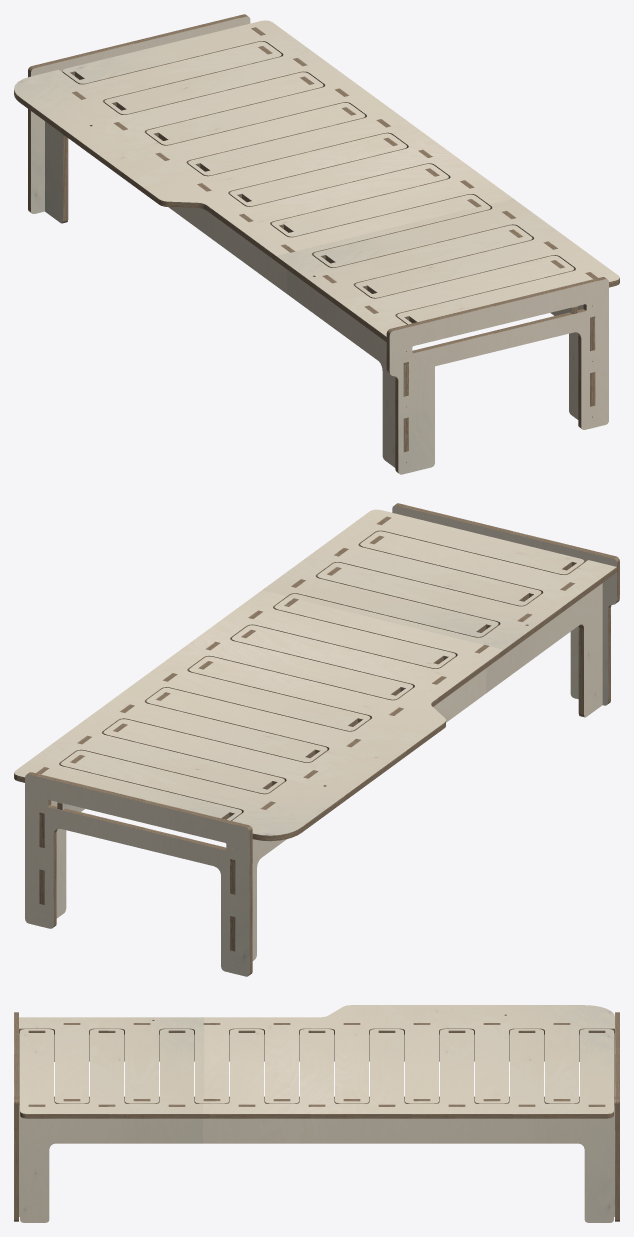
The model's file is slide-bed-birch.glb.
The picture shows the model from 3 angles, top to bottom: view 1: azimuth 30°, elevation 25°; view 2: azimuth 150°, elevation 25°; view 3: azimuth 270°, elevation 25°; orthographic projection. The views are drawn at different scales.
Visible parts, largest first — view 1: ボディ67_1, ボディ6 (1)_1, ボディ2_1, ボディ60_1, ボディ67_0, ボディ1_1, ボディ6 (1)_0, ボディ2_0, ボディ60_0, ボディ1_0, ボディ54_0, ボディ54_1; view 2: ボディ67_1, ボディ6 (1)_1, ボディ1_1, ボディ60_1, ボディ67_0, ボディ2_1, ボディ6 (1)_0, ボディ1_0, ボディ60_0, ボディ2_0, ボディ54_1, ボディ54_0; view 3: ボディ67_1, ボディ6 (1)_1, ボディ5 (1)_1, ボディ6 (1)_0, ボディ1_0, ボディ2_0, ボディ67_0, ボディ60_1, ボディ5 (1)_0, ボディ54_0.
Part boxes in pixels (x1,y1,x2,y2): ボディ67_1: (14, 41, 574, 336); ボディ6 (1)_1: (63, 20, 619, 324); ボディ2_1: (389, 279, 608, 474); ボディ60_1: (45, 121, 395, 467); ボディ67_0: (14, 55, 574, 341); ボディ1_1: (31, 16, 250, 213); ボディ6 (1)_0: (62, 41, 619, 324); ボディ2_0: (386, 277, 606, 473); ボディ60_0: (62, 91, 408, 452); ボディ1_0: (28, 14, 247, 212); ボディ54_0: (258, 46, 595, 406); ボディ54_1: (569, 304, 583, 419); ボディ67_1: (61, 531, 616, 835); ボディ6 (1)_1: (14, 509, 583, 820); ボディ1_1: (25, 774, 249, 976); ボディ60_1: (252, 583, 602, 960); ボディ67_0: (60, 545, 616, 841); ボディ2_1: (392, 505, 616, 705); ボディ6 (1)_0: (14, 530, 584, 820); ボディ1_0: (27, 772, 252, 974); ボディ60_0: (230, 582, 584, 951); ボディ2_0: (394, 503, 619, 704); ボディ54_1: (51, 800, 66, 918); ボディ54_0: (39, 535, 383, 904); ボディ67_1: (19, 1005, 614, 1103); ボディ6 (1)_1: (20, 1029, 613, 1113); ボディ5 (1)_1: (20, 1116, 613, 1222); ボディ6 (1)_0: (20, 1030, 613, 1118); ボディ1_0: (615, 1012, 619, 1221); ボディ2_0: (14, 1012, 18, 1221); ボディ67_0: (19, 1014, 614, 1103); ボディ60_1: (19, 1033, 614, 1102); ボディ5 (1)_0: (28, 1104, 605, 1106); ボディ54_0: (19, 1099, 614, 1105).
Bounding box in the file's own units: 0.765 × 0.4 × 1.8.
Materials: 2 (2 with a texture image).
